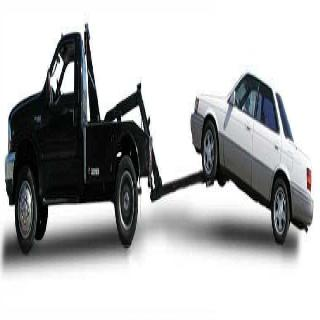Towing_truck: (4, 21, 157, 256)
